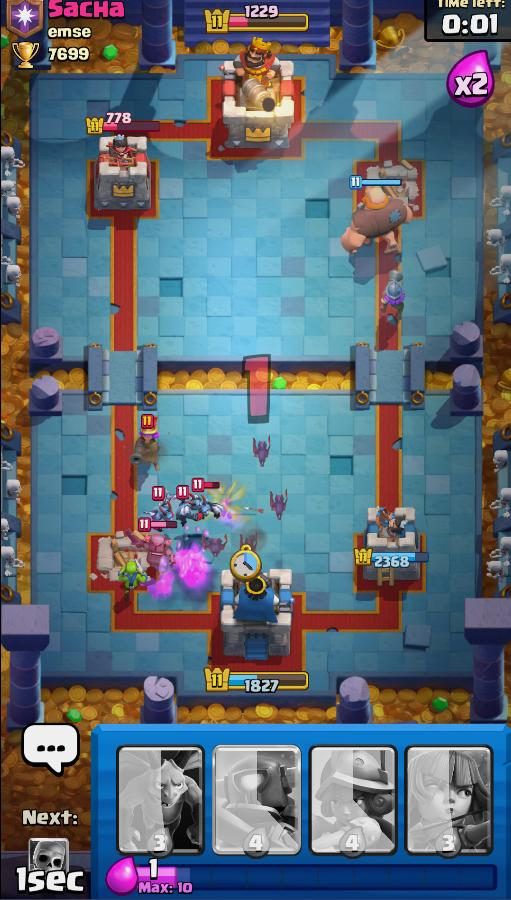bat: (245, 431, 284, 474), (261, 485, 302, 521), (197, 536, 234, 562), (234, 531, 262, 559)
gargouille: (141, 498, 179, 533), (194, 497, 230, 525), (177, 492, 204, 525)
geant: (335, 175, 432, 259)
gobelin: (114, 558, 153, 600)
mini_PEKKA: (134, 532, 179, 571)
mousquetaire: (371, 264, 418, 327), (124, 415, 171, 473)
